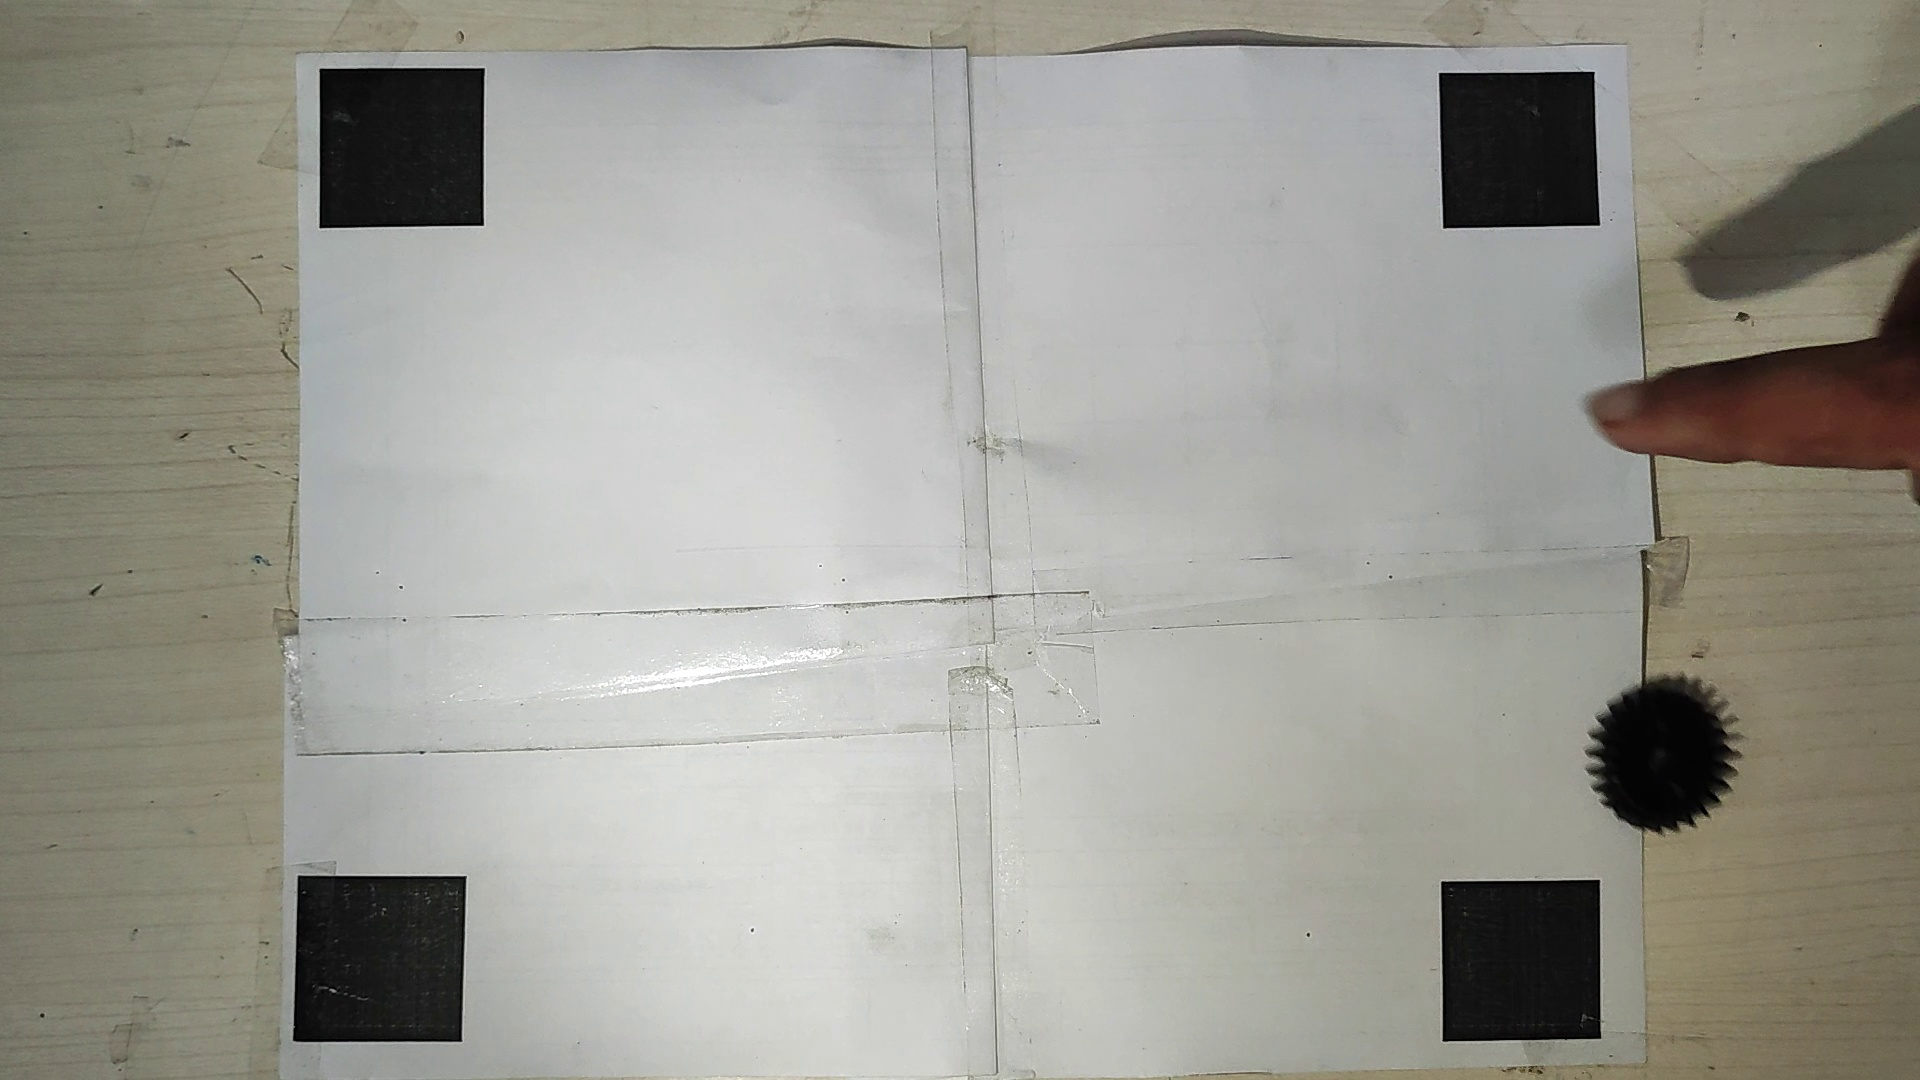Gear: (1582, 673, 1742, 835)
